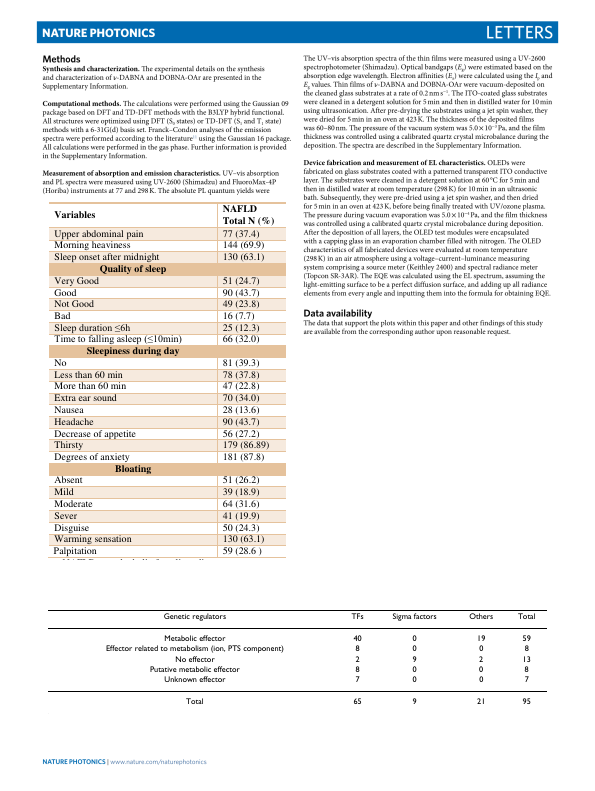borderless: (46, 201, 285, 559), (46, 608, 548, 715)
cell: (53, 332, 182, 347), (104, 645, 284, 655), (53, 251, 160, 264), (221, 203, 275, 228), (85, 345, 180, 358), (53, 228, 144, 241), (53, 321, 131, 336), (53, 427, 136, 441), (53, 533, 132, 546), (53, 239, 131, 252), (53, 451, 130, 464), (53, 380, 126, 393), (148, 665, 240, 675), (53, 369, 123, 382), (98, 263, 167, 276), (53, 392, 117, 405), (162, 612, 227, 622), (221, 439, 270, 452), (53, 275, 99, 288), (52, 545, 97, 558), (221, 239, 265, 252), (221, 251, 265, 264), (221, 451, 265, 464), (221, 533, 265, 546), (163, 635, 226, 644), (163, 676, 226, 685), (53, 209, 96, 222), (221, 286, 260, 300), (221, 427, 260, 441), (113, 462, 152, 476), (221, 521, 260, 535), (53, 298, 94, 311), (53, 416, 94, 429), (221, 545, 262, 558), (53, 498, 93, 511), (53, 521, 90, 535), (221, 228, 260, 241), (221, 275, 260, 288), (221, 298, 260, 311), (221, 322, 260, 335), (221, 333, 260, 346), (221, 357, 260, 370), (221, 369, 260, 382), (221, 380, 260, 393), (221, 392, 260, 405), (221, 404, 260, 417), (221, 416, 260, 429), (221, 474, 260, 487), (221, 486, 260, 499), (221, 498, 260, 511), (221, 510, 260, 523), (391, 612, 437, 622), (221, 310, 255, 323), (174, 655, 215, 665), (53, 404, 84, 417), (53, 439, 84, 452), (53, 474, 83, 487), (53, 286, 77, 300), (53, 510, 77, 523), (53, 486, 74, 499), (468, 612, 494, 622), (53, 310, 71, 323), (516, 612, 536, 622), (185, 698, 204, 708), (53, 357, 67, 370), (350, 612, 364, 622), (521, 655, 531, 665), (352, 698, 362, 708), (476, 698, 486, 708), (521, 698, 531, 708), (352, 635, 362, 644), (476, 635, 486, 644), (521, 635, 531, 644), (354, 645, 360, 655), (411, 645, 417, 655), (478, 645, 484, 655), (523, 645, 529, 655), (354, 655, 360, 665), (411, 655, 417, 665), (478, 655, 484, 665), (354, 665, 360, 675), (411, 665, 417, 675), (478, 665, 484, 675), (523, 665, 529, 675), (411, 698, 417, 708), (411, 635, 417, 644), (354, 676, 360, 685), (411, 676, 417, 685), (478, 676, 484, 685), (523, 676, 529, 685)
